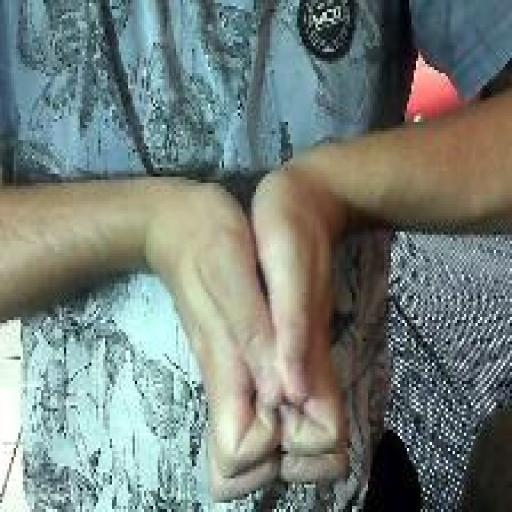I -boar-: (162, 163, 352, 504)
